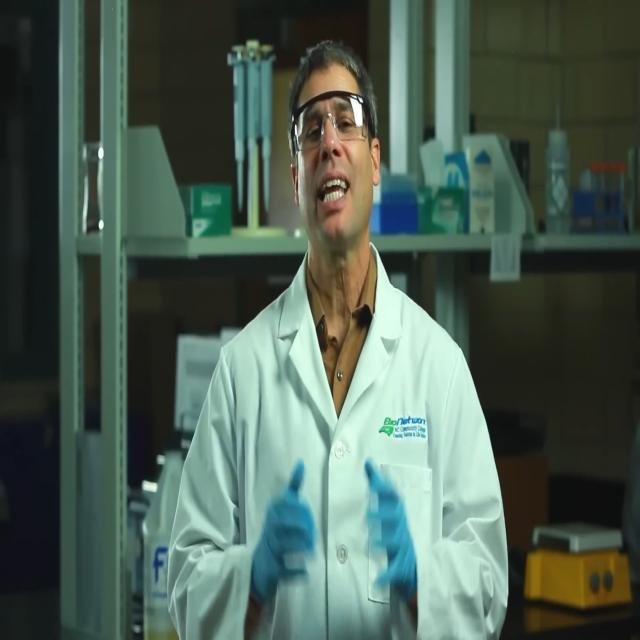googles: (288, 87, 378, 153)
labcoat: (162, 235, 513, 640)
